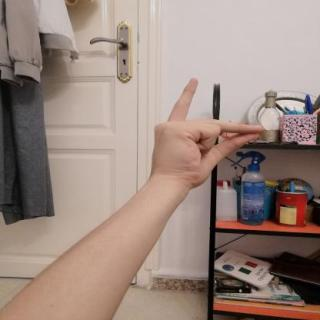TAA: (138, 71, 271, 194)
